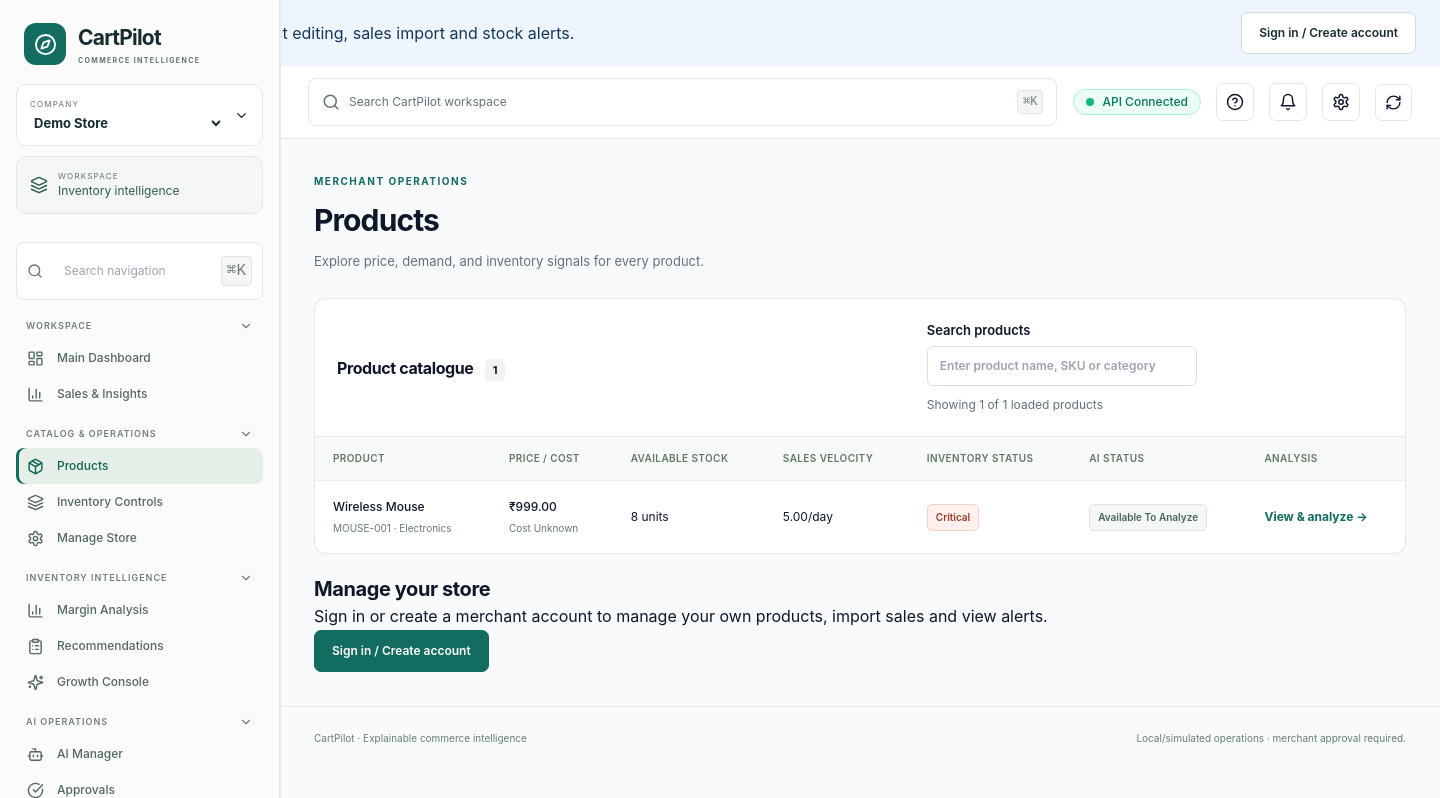
Test: shows missing Shopify cost and margin without treating them as zero
Expected: the text "Wireless Mouse" is shown, [333, 499, 425, 514]
Click the button with aria-label "Analyze Wireless Mouse". click: (1316, 517)
box: [1264, 498, 1368, 536]
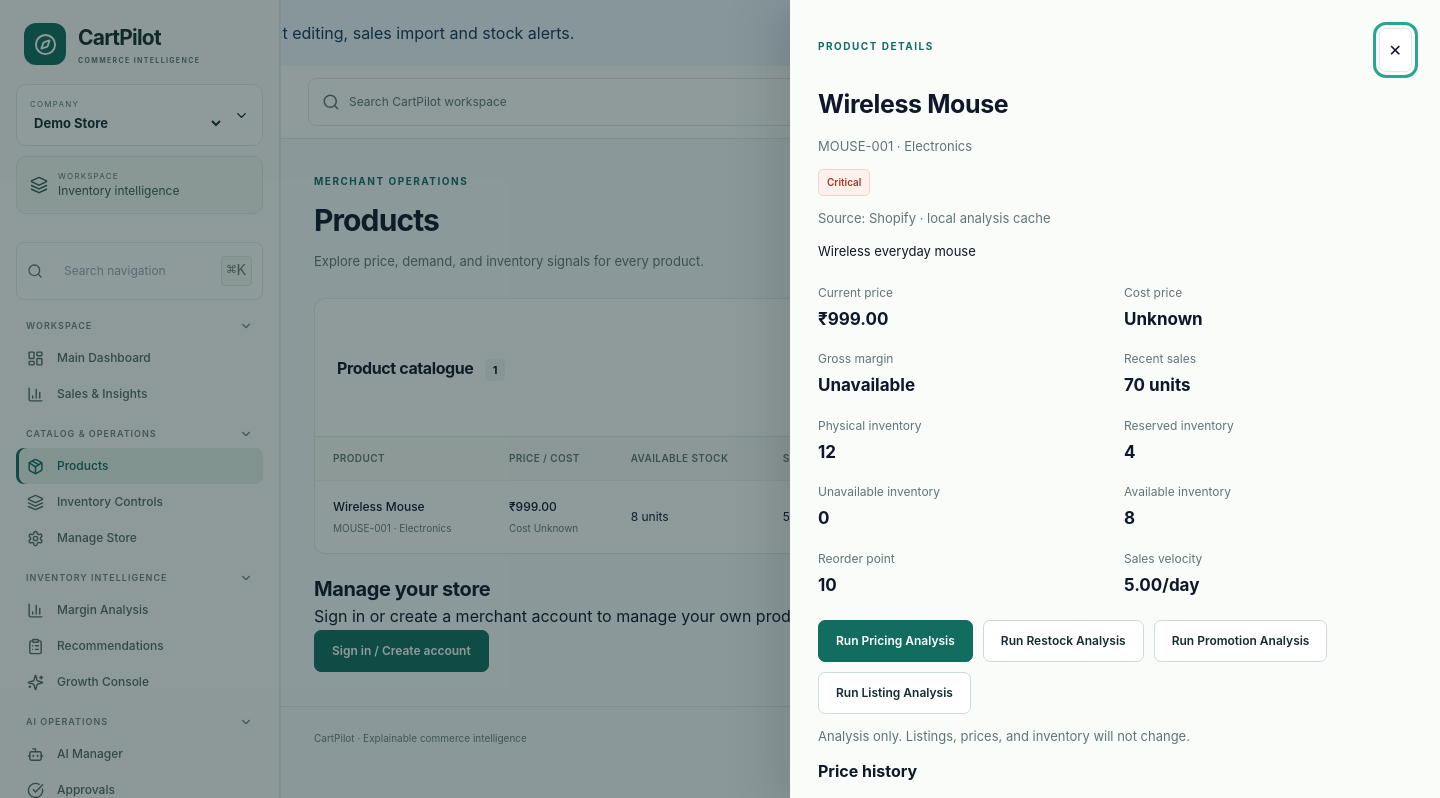
Expected: the text "Source: Shopify · local analysis cache" is shown, [818, 210, 1050, 226]
Expected: the text "Unknown" is shown, [1124, 309, 1203, 329]
Expected: the text "Unavailable" is shown, [818, 375, 915, 395]
